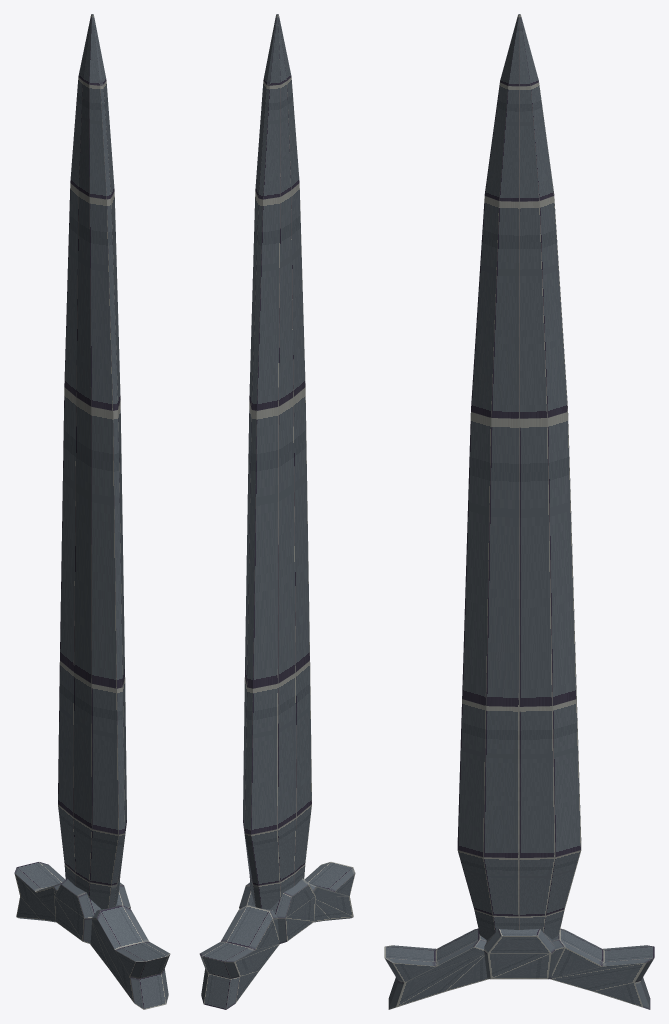
File: workpiece_guiyan_sword_tempered.obj
The picture shows the model from 3 angles, left to right: view 1: azimuth 30°, elevation 25°; view 2: azimuth 150°, elevation 25°; view 3: azimuth 270°, elevation 25°; orthographic projection. The views are drawn at different scales.
Visible parts, largest first — view 1: geometry; view 2: geometry; view 3: geometry.
Part boxes in pixels (bbox=[...]): geometry: bbox=[14, 14, 170, 1009]; geometry: bbox=[199, 14, 355, 1009]; geometry: bbox=[384, 14, 654, 1009].
Size of the model in its own units: 0.0756 by 1.48 by 0.365.
